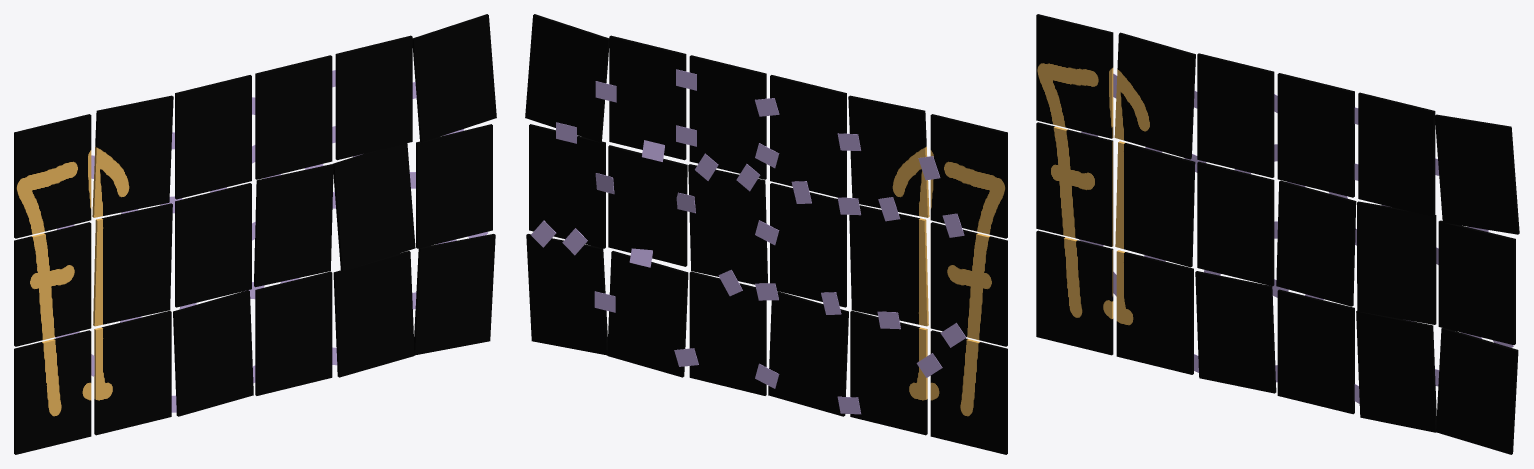
Rendered from Camp17.glb.
The picture shows the model from 3 angles, left to right: view 1: azimuth 30°, elevation 25°; view 2: azimuth 150°, elevation 25°; view 3: azimuth 330°, elevation 25°; orthographic projection.
Parts seen in each view (by area): view 1: Paper, Tape; view 2: Paper, Tape; view 3: Paper, Tape.
Part boxes in pixels (x1,y1,x2,y2): Paper: (14,14,496,454); Tape: (55,70,487,412); Paper: (525,14,1007,454); Tape: (531,69,966,414); Paper: (1036,14,1519,454); Tape: (1079,73,1513,403).
Size of the model in its own units: 8.38 by 5.43 by 0.2428.
Materials: 2 (1 with a texture image).
